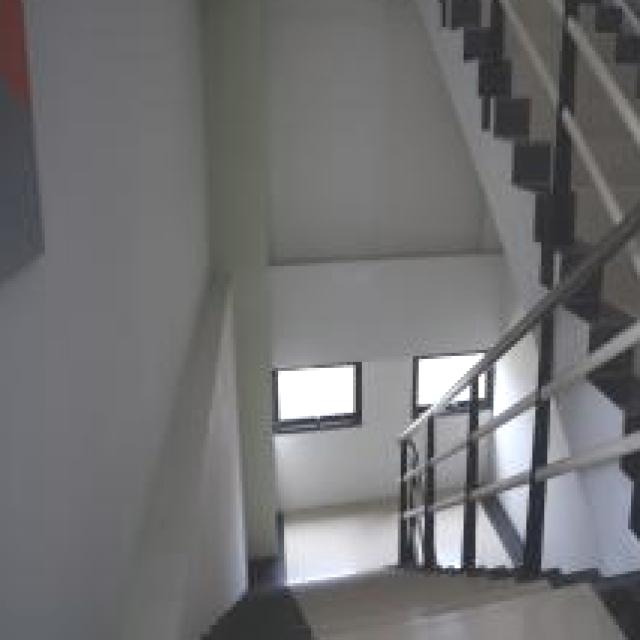downstair: (234, 587, 614, 640)
